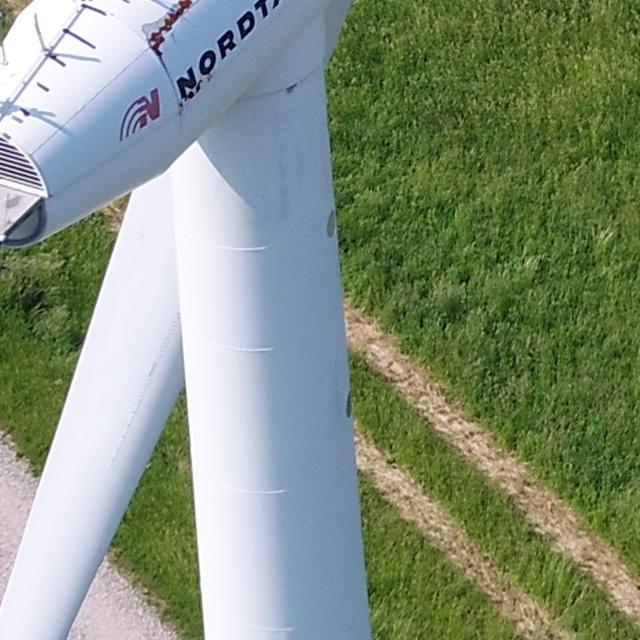damage: (149, 1, 199, 60), (284, 83, 298, 95)
